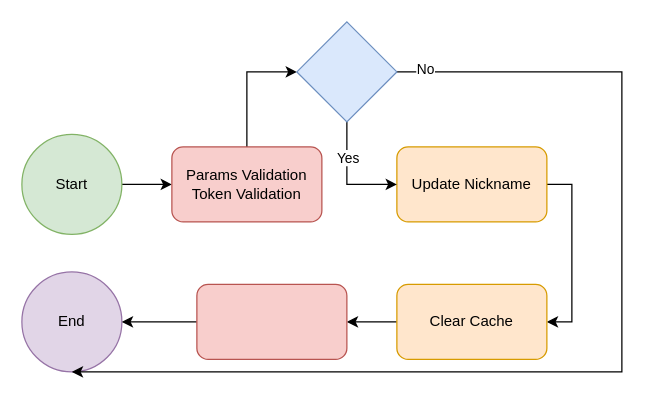
Some shapes in this 654 by 404 pixel diagram are drawn without their labels. The shapes that lost their labels are listed below. From the top down, each one's centre as x and y in pixels, then its label:
At point 346,71: "Is Token Existed?".
At point 271,321: "Return".
